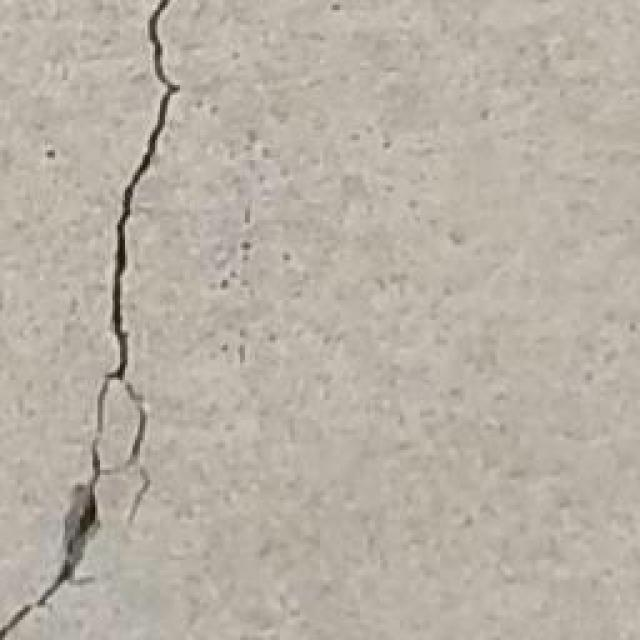concrete-crack: (0, 0, 182, 640)
